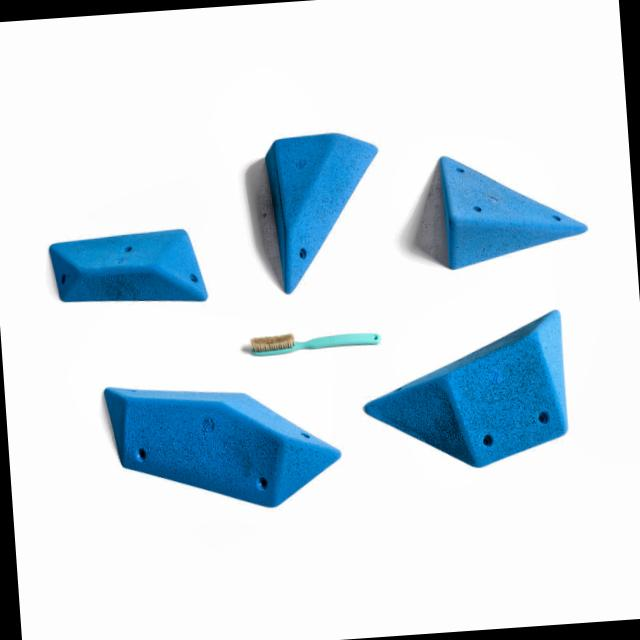Hold: (97, 360, 351, 530), (359, 304, 585, 476), (416, 138, 592, 282), (252, 125, 382, 298), (42, 210, 210, 314)
